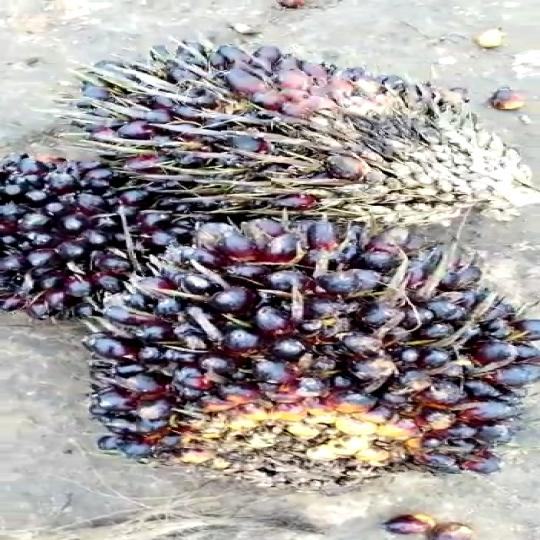kurang masak: (86, 222, 529, 510), (77, 36, 540, 215), (0, 168, 189, 302)
